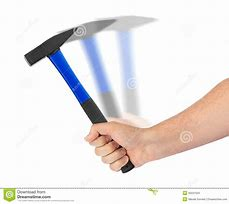hammer: (23, 27, 136, 175)
